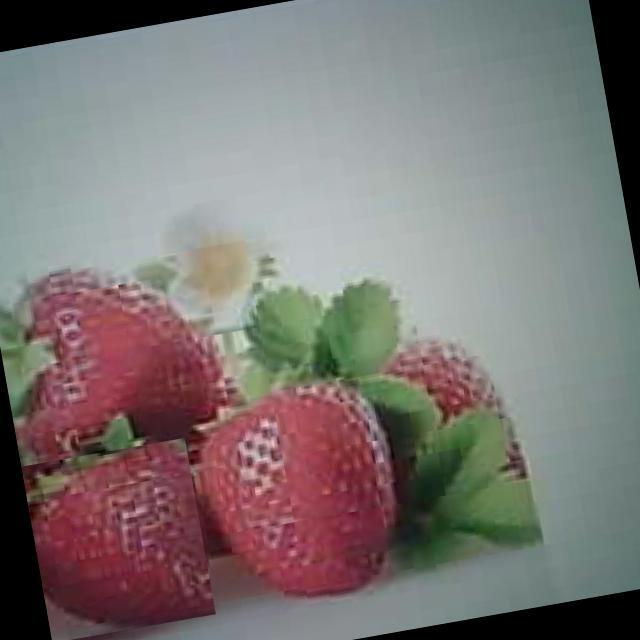ripe: (190, 375, 410, 614), (2, 250, 231, 460), (20, 437, 215, 640)
